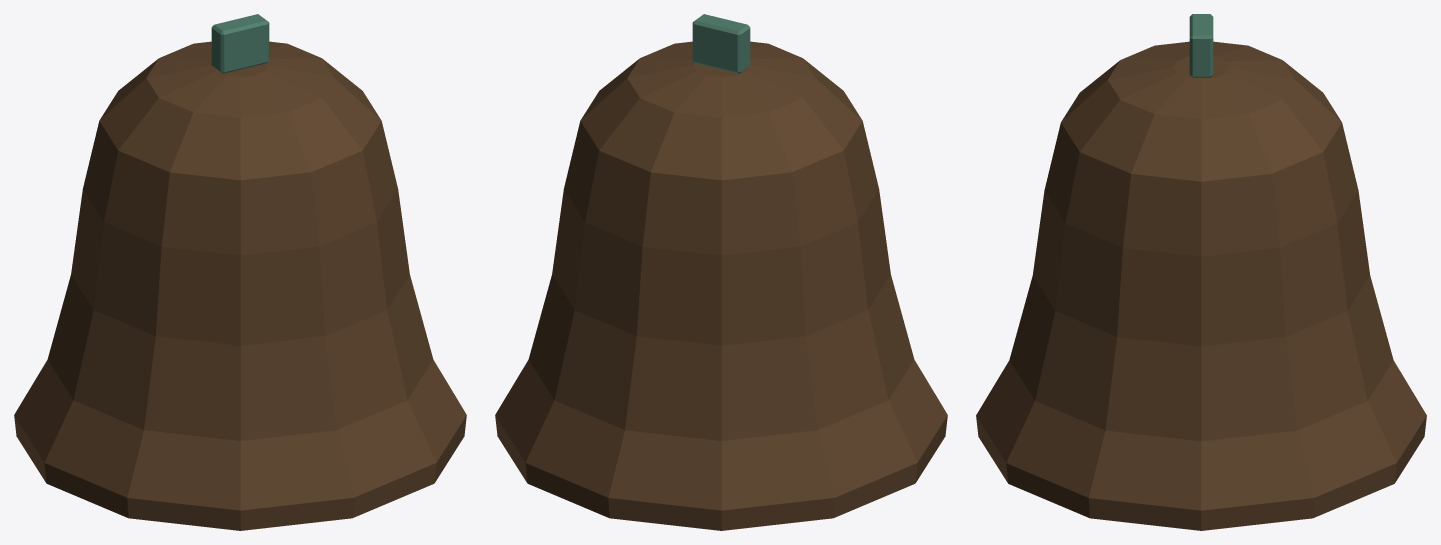
The model's file is Prop_Lab_EchoBell_S07_LOD1.glb.
The picture shows the model from 3 angles, left to right: view 1: azimuth 30°, elevation 25°; view 2: azimuth 150°, elevation 25°; view 3: azimuth 270°, elevation 25°; orthographic projection.
Visible parts, largest first — view 1: Prop_Lab_EchoBell_S07; view 2: Prop_Lab_EchoBell_S07; view 3: Prop_Lab_EchoBell_S07.
Part boxes in pixels (<box>): Prop_Lab_EchoBell_S07: <box>14,14,466,530</box>; Prop_Lab_EchoBell_S07: <box>495,14,947,530</box>; Prop_Lab_EchoBell_S07: <box>976,14,1426,530</box>.
Bounding box in the file's own units: 0.7075 × 0.7133 × 0.7075.
